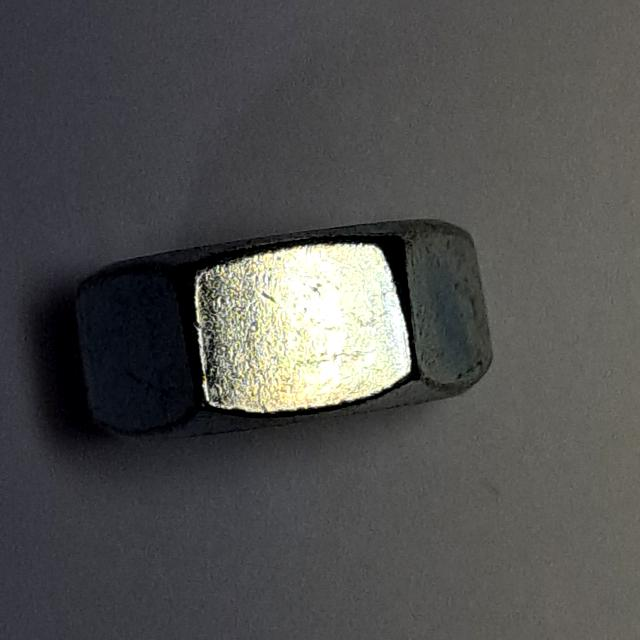Side_Excellent: (64, 207, 511, 455)
